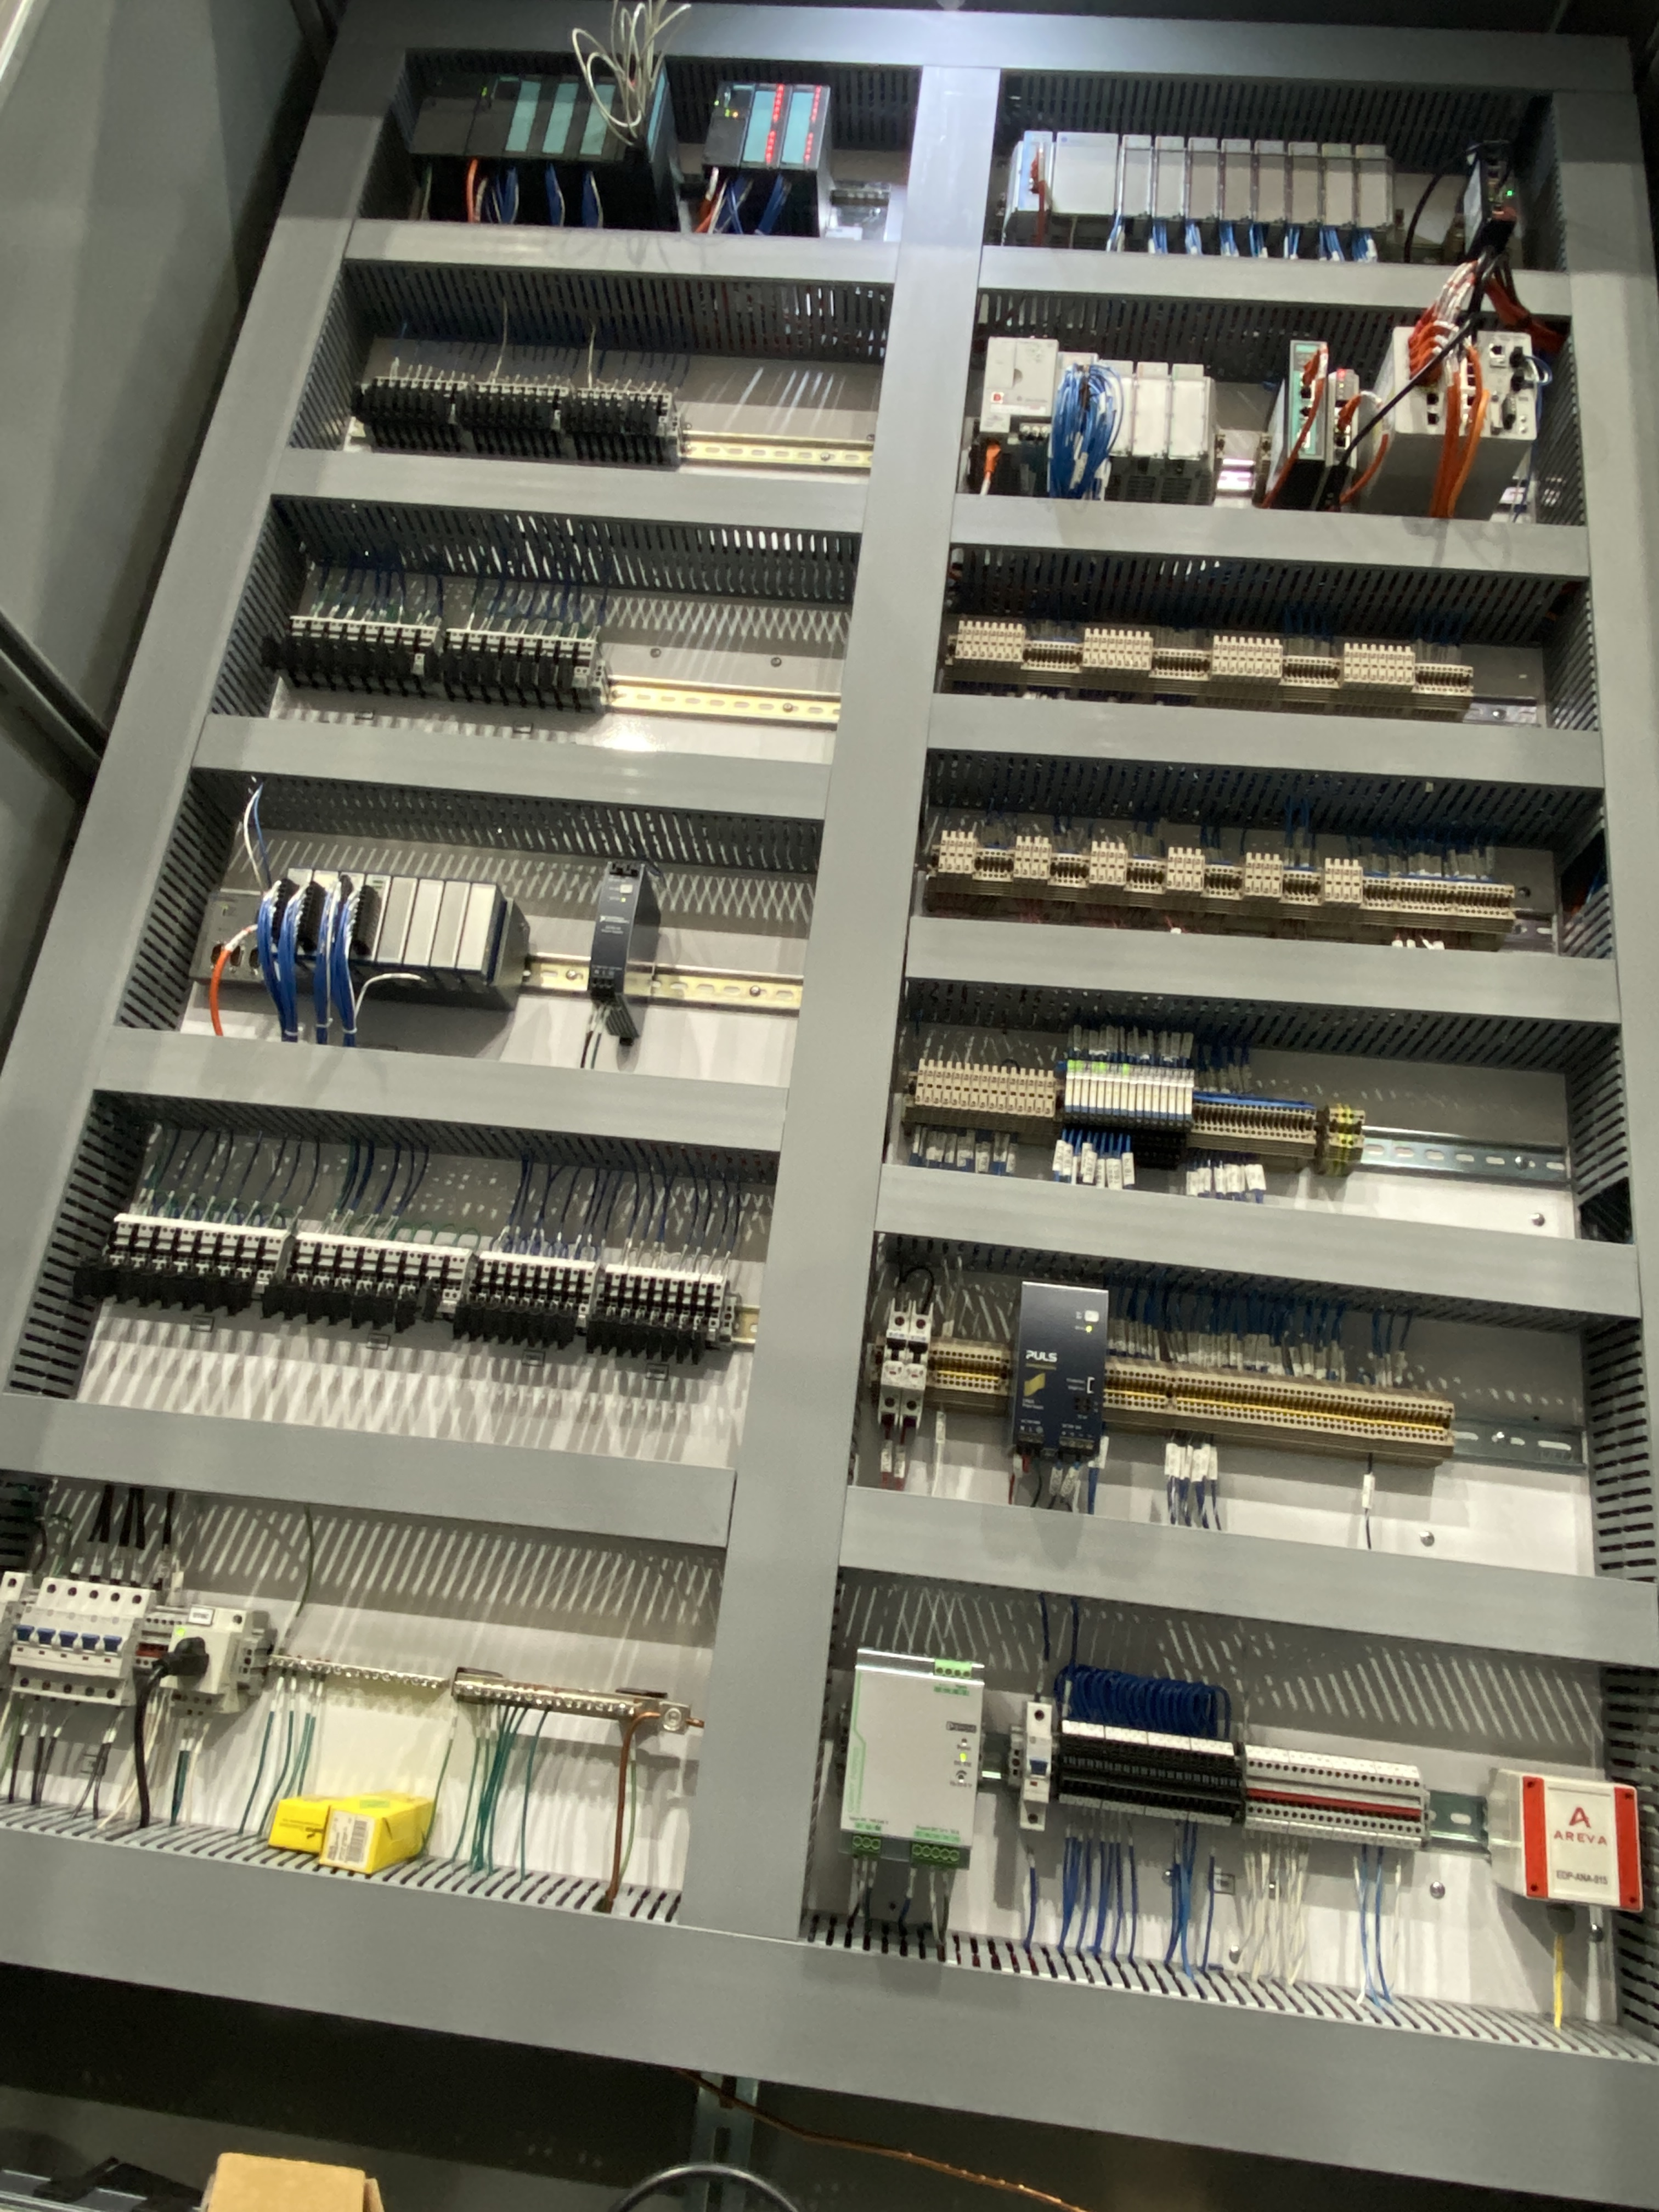AllenBradley: (974, 333, 1053, 444)
Siemens: (465, 64, 518, 164)
